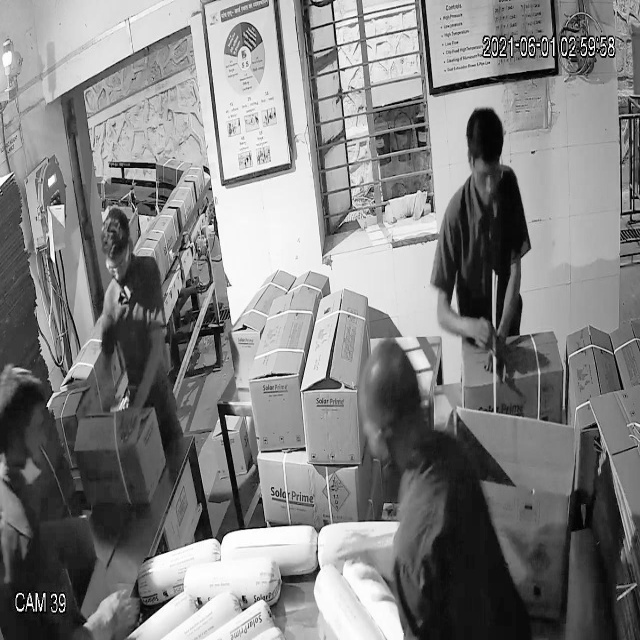Gafas: (97, 243, 137, 286)
